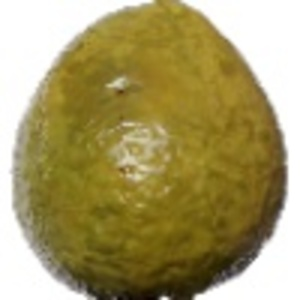goiaba: (7, 5, 288, 297)
